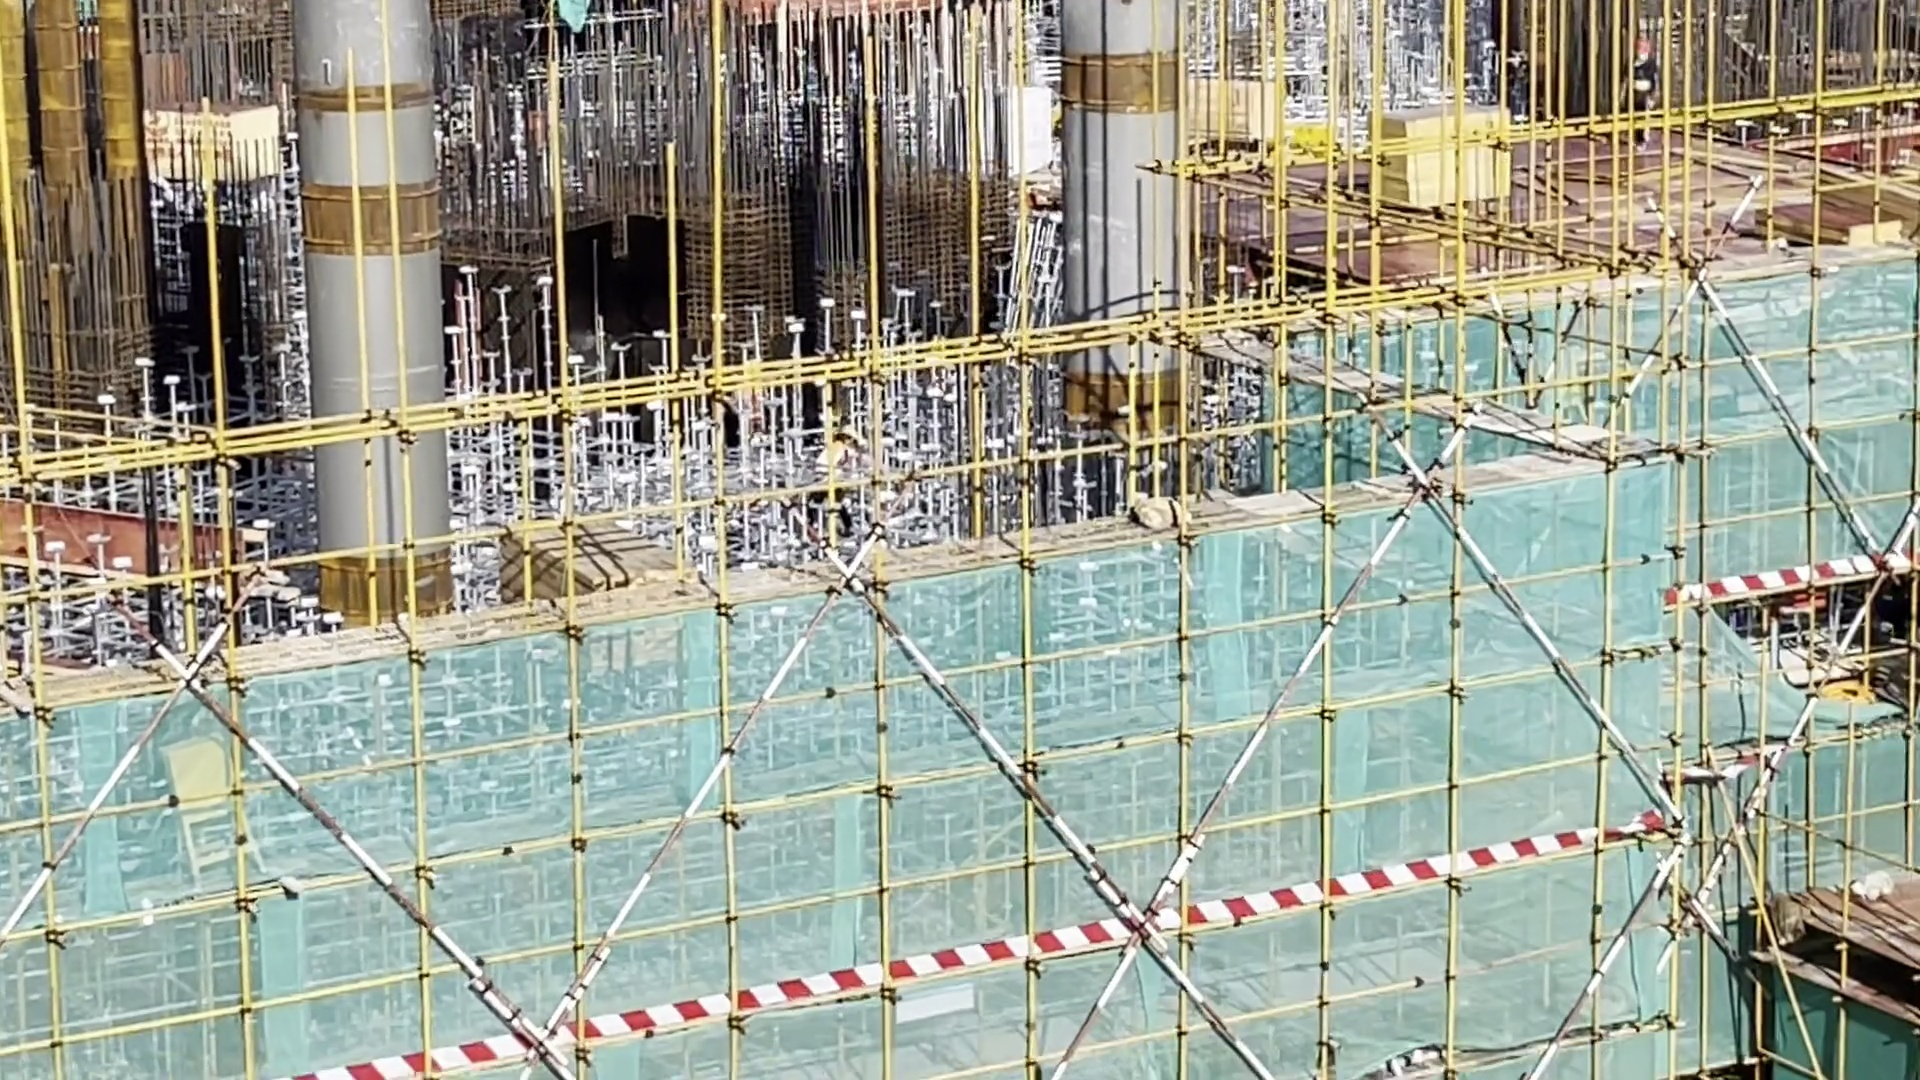ebox: (151, 737, 273, 884)
person: (1615, 38, 1664, 147)
vest: (1627, 61, 1655, 91)
